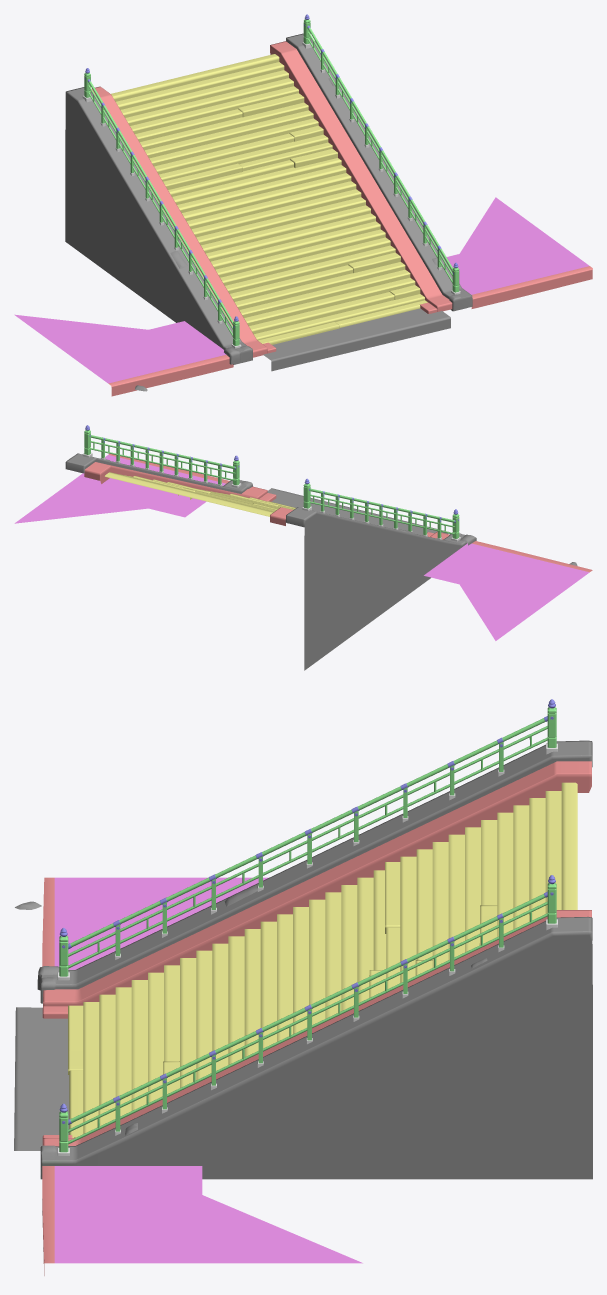
The model's file is SM_ENV_LKNVLD_Ground_StairCase_01.gltf.
3 renders of one model, top to bottom at view 1: azimuth 30°, elevation 25°; view 2: azimuth 150°, elevation 25°; view 3: azimuth 270°, elevation 25°, orthographic. The views are drawn at different scales.
Parts seen in each view (by area): view 1: SM_ENV_LKNVLD_Ground_StairCase_01; view 2: SM_ENV_LKNVLD_Ground_StairCase_01; view 3: SM_ENV_LKNVLD_Ground_StairCase_01.
Boxes of the visible parts, x1=… form: SM_ENV_LKNVLD_Ground_StairCase_01: x1=14, y1=14, x2=592, y2=396; SM_ENV_LKNVLD_Ground_StairCase_01: x1=14, y1=425, x2=592, y2=670; SM_ENV_LKNVLD_Ground_StairCase_01: x1=14, y1=699, x2=592, y2=1275.
Size of the model in its own units: 22.64 by 8.48 by 14.36.
